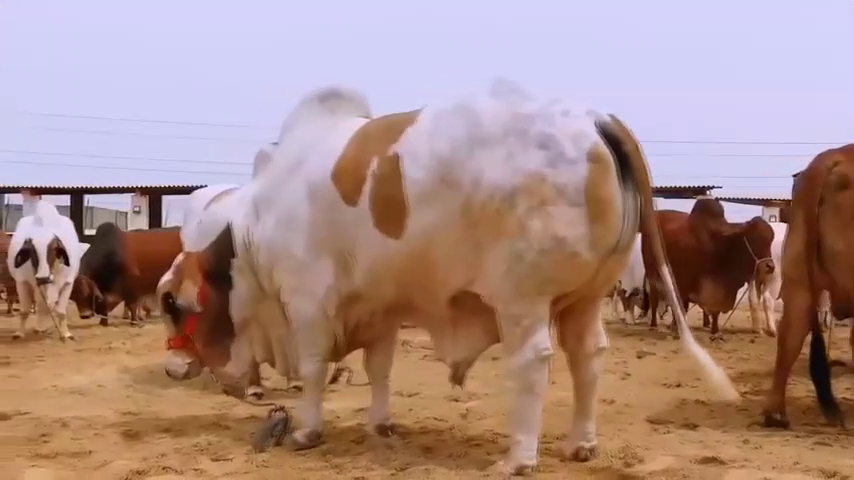bo: (135, 82, 744, 473), (731, 102, 854, 438), (635, 176, 774, 339), (62, 189, 202, 336), (9, 189, 81, 344), (601, 221, 652, 328), (751, 212, 795, 328)
